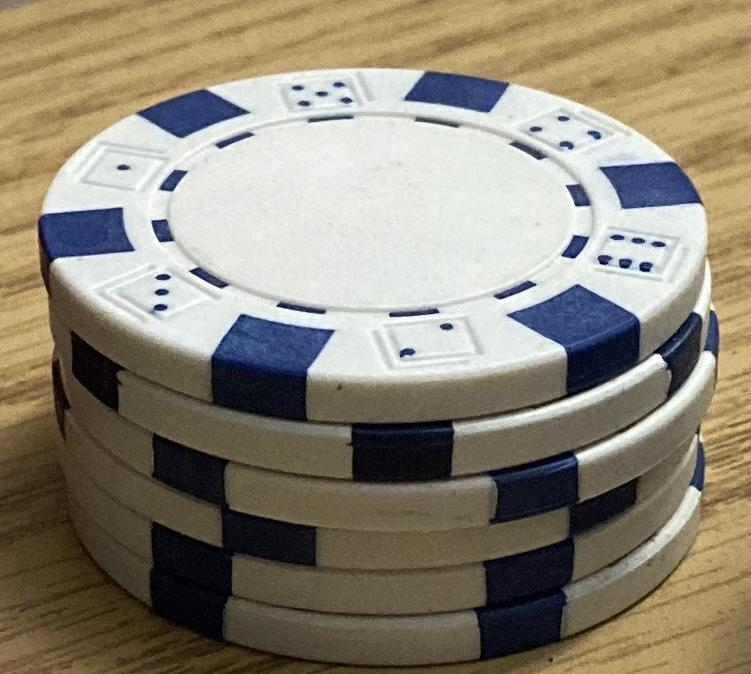Chip: (1, 1, 751, 674)
